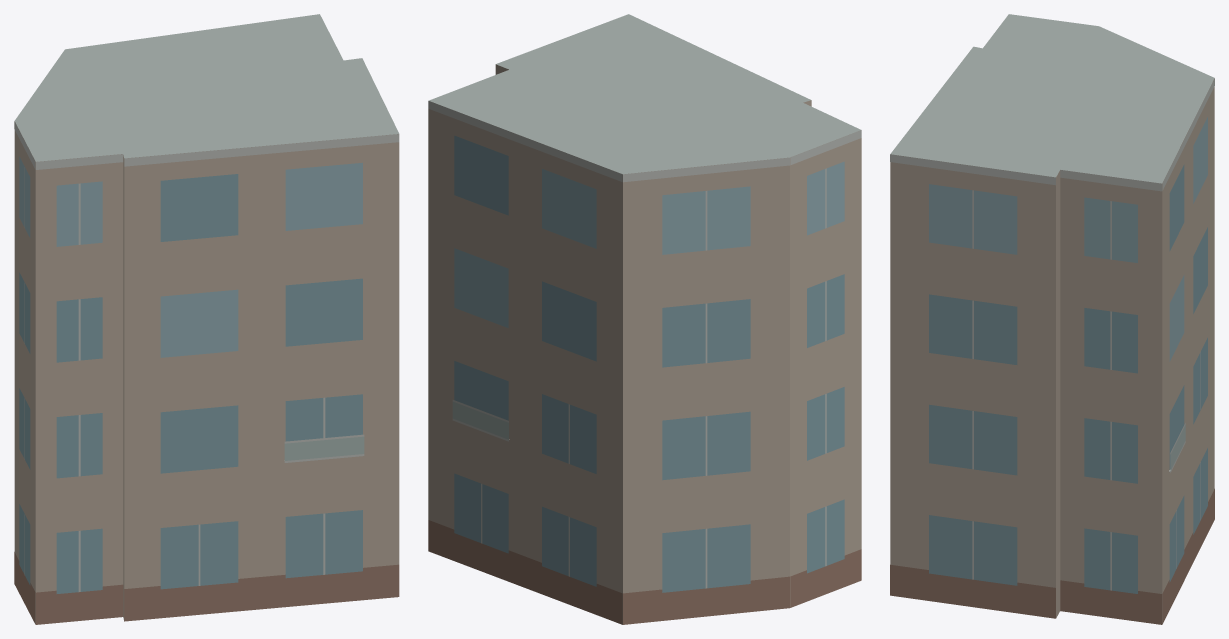
Rendered from survey-upis-32465290.glb.
The picture shows the model from 3 angles, left to right: view 1: azimuth 30°, elevation 25°; view 2: azimuth 150°, elevation 25°; view 3: azimuth 270°, elevation 25°; orthographic projection. The views are drawn at different scales.
Parts seen in each view (by area): view 1: survey-upis-32465290.tmp; view 2: survey-upis-32465290.tmp; view 3: survey-upis-32465290.tmp.
Boxes of the visible parts, box(x1,y1,x2,y2) form: survey-upis-32465290.tmp: box(14, 14, 399, 624); survey-upis-32465290.tmp: box(428, 14, 861, 624); survey-upis-32465290.tmp: box(890, 14, 1214, 624).
Bounding box in the file's own units: 11.3 × 13.7 × 9.14.
